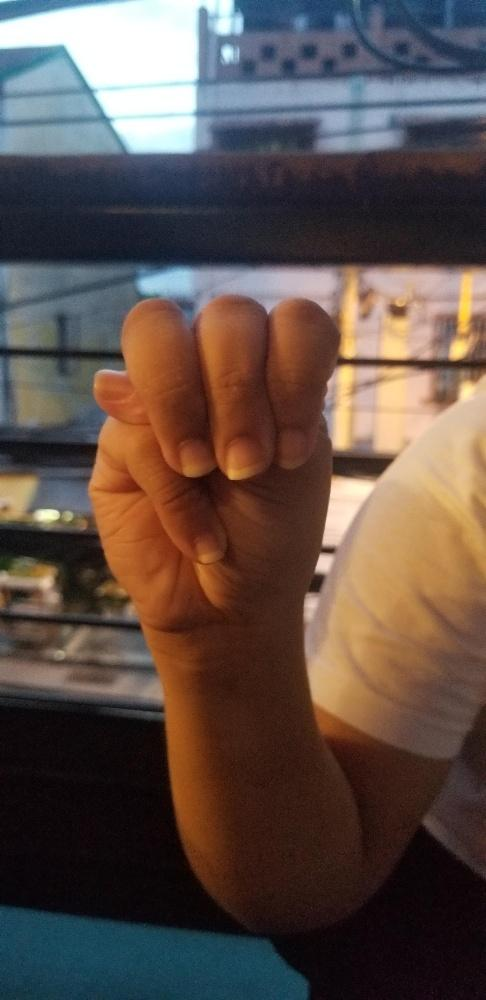m: (84, 294, 344, 630)
